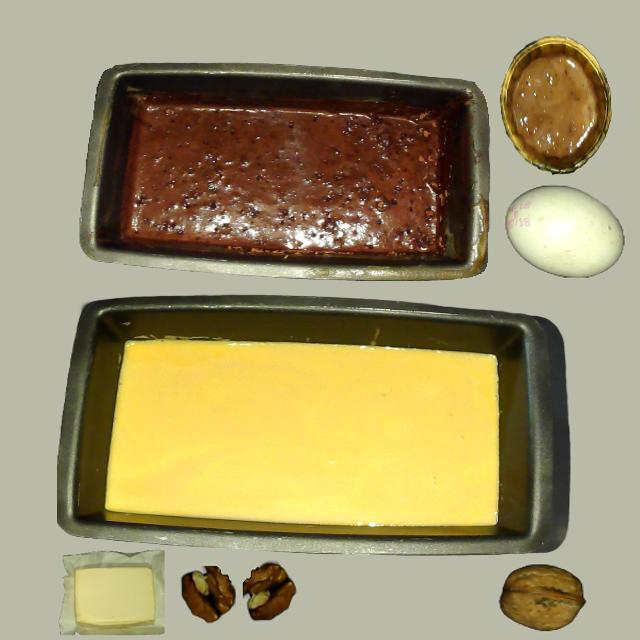Walnut: (498, 565, 584, 632)
